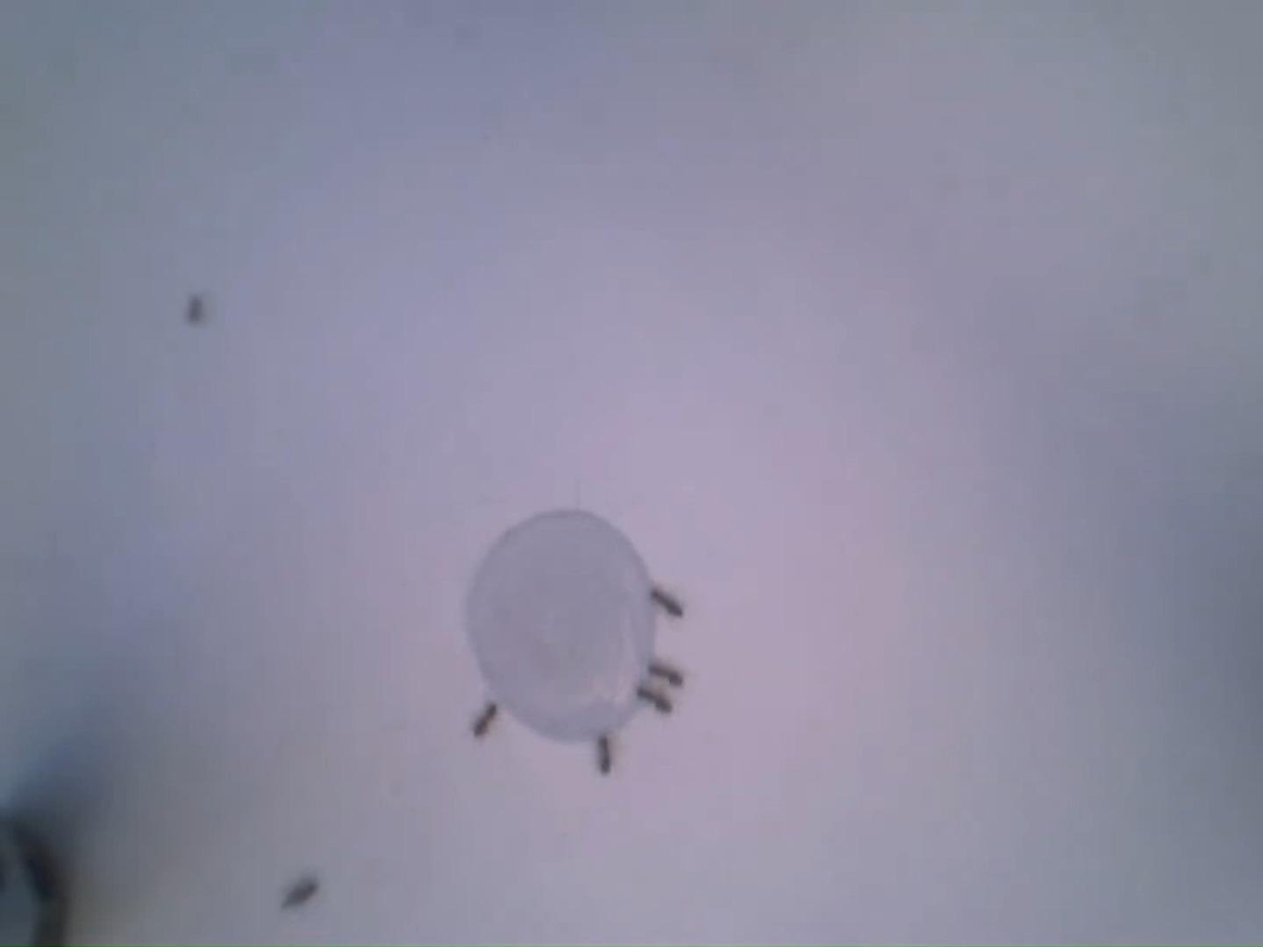Ant: (284, 877, 321, 910), (650, 659, 688, 686), (653, 586, 685, 618), (640, 684, 675, 713), (474, 702, 499, 736), (598, 734, 616, 774), (189, 294, 206, 322)
